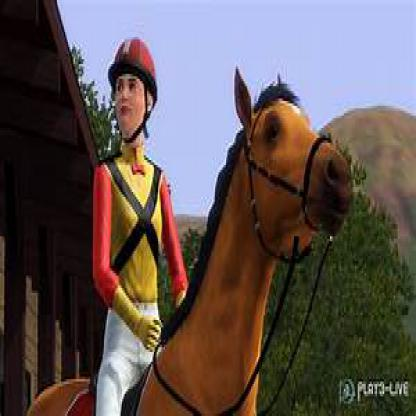horse: (26, 66, 355, 414)
